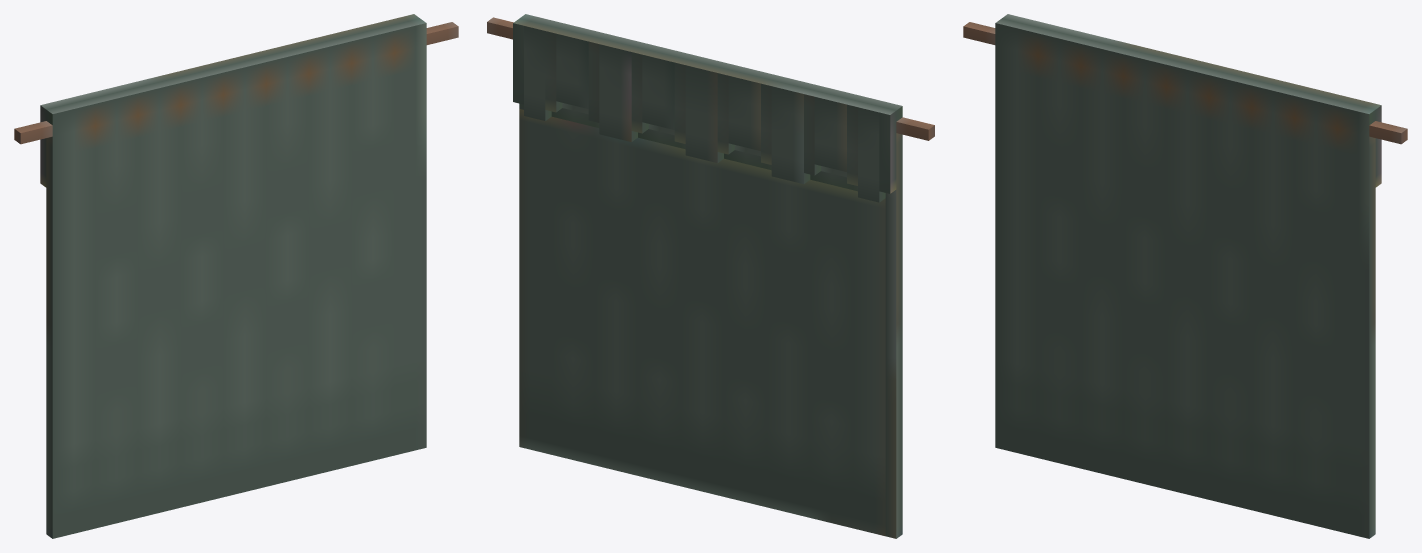
The model's file is CurtainDarkGrey_00.fbx.
3 renders of one model, left to right at view 1: azimuth 30°, elevation 25°; view 2: azimuth 150°, elevation 25°; view 3: azimuth 330°, elevation 25°, orthographic.
Visible parts, largest first — view 1: CurtainDarkGrey_00; view 2: CurtainDarkGrey_00; view 3: CurtainDarkGrey_00.
Boxes of the visible parts, left/top/right/bottom form: CurtainDarkGrey_00: left=14, top=14, right=458, bottom=538; CurtainDarkGrey_00: left=487, top=14, right=934, bottom=538; CurtainDarkGrey_00: left=963, top=14, right=1407, bottom=538.
Bounding box in the file's own units: 205 × 10 × 190.
1 material, 1 textured.
